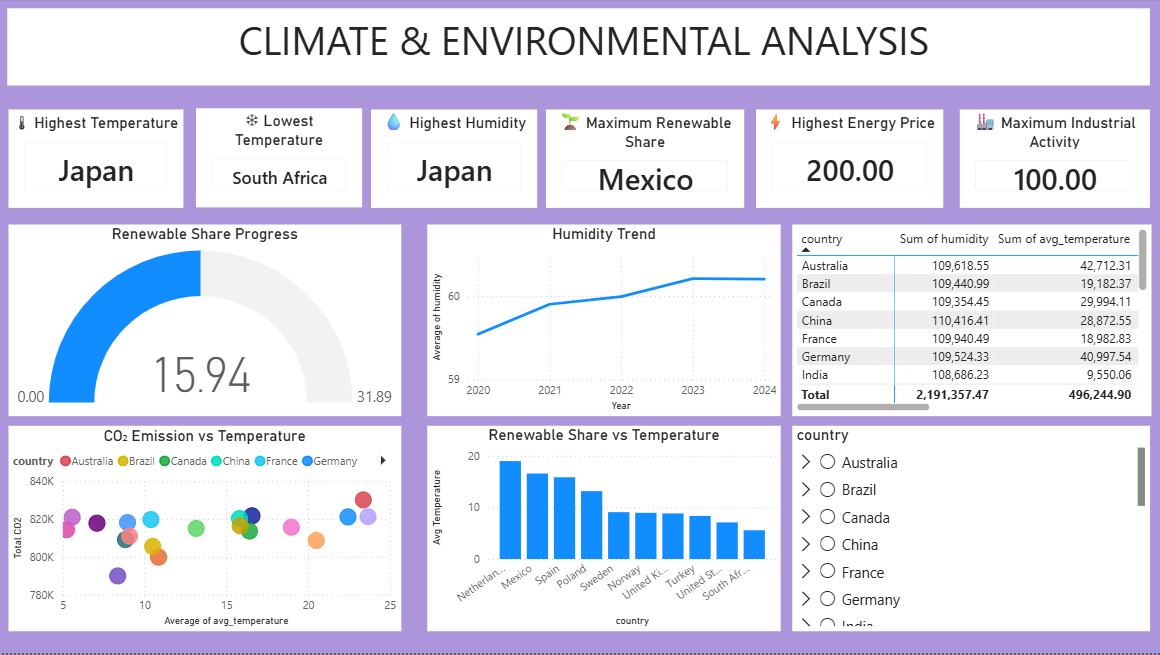

This screenshot's page, from the dashboard's own definition file:
{"tool":"powerbi","page":{"name":" CLIMATE & ENVIRONMENTAL ANALYSIS","canvas":[1280,720],"ordinal":2},"visuals":[{"type":"textbox","box":[12.9,12.9,1254.5,84.5],"z":0},{"type":"cardVisual","title":"🌡 Highest Temperature","fields":{"Data":["global_climate_energy_2020_2024.Highest Temp Country"]},"box":[13.7,123.3,191.8,108.1],"z":1000},{"type":"cardVisual","title":"❄ Lowest Temperature","fields":{"Data":["global_climate_energy_2020_2024.Lowest Humidity Country"]},"box":[211.6,123.3,185.7,108.1],"z":2000},{"type":"cardVisual","title":"💧 Highest Humidity","fields":{"Data":["global_climate_energy_2020_2024.Highest Temp Country"]},"box":[411,123.3,182.7,108.1],"z":3000},{"type":"cardVisual","title":"🌱 Maximum Renewable Share","fields":{"Data":["global_climate_energy_2020_2024.Highest Renewable Country"]},"box":[604.4,123.3,217.7,108.1],"z":4000},{"type":"cardVisual","title":"⚡ Highest Energy Price","fields":{"Data":["global_climate_energy_2020_2024.Highest Energy Price"]},"box":[834.3,123.3,205.5,108.1],"z":5000},{"type":"cardVisual","title":"🏭 Maximum Industrial Activity","fields":{"Data":["global_climate_energy_2020_2024.Max Industrial Activity"]},"box":[1058,123.3,208.6,108.1],"z":6000},{"type":"gauge","title":"Renewable Share Progress","fields":{"Y":["Avg(global_climate_energy_2020_2024.renewable_share)"]},"box":[13.7,249.7,430.8,210.1],"z":7000},{"type":"lineChart","title":"Humidity Trend","fields":{"Category":["global_climate_energy_2020_2024.date.Variation.Date Hierarchy.Year","global_climate_energy_2020_2024.date.Variation.Date Hierarchy.Month","global_climate_energy_2020_2024.date.Variation.Date Hierarchy.Day"],"Y":["Avg(global_climate_energy_2020_2024.humidity)"]},"box":[473.5,249.7,388.2,210.1],"z":8000},{"type":"scatterChart","title":"CO₂ Emission vs Temperature","fields":{"X":["Avg(global_climate_energy_2020_2024.avg_temperature)"],"Series":["global_climate_energy_2020_2024.country"],"Y":["global_climate_energy_2020_2024.Total CO2"],"Size":["global_climate_energy_2020_2024.Total Energy"]},"box":[13.7,470.4,430.8,225.3],"z":9000},{"type":"lineStackedColumnComboChart","title":"Renewable Share vs Temperature","fields":{"Y":["global_climate_energy_2020_2024.Avg Temperature"],"Category":["global_climate_energy_2020_2024.country"]},"box":[473.5,470.4,388.2,225.3],"z":10000},{"type":"listSlicer","fields":{"Values":["global_climate_energy_2020_2024.country","global_climate_energy_2020_2024.date.Variation.Date Hierarchy.Year"]},"box":[873.8,470.4,392.8,225.3],"z":11000},{"type":"pivotTable","fields":{"Rows":["global_climate_energy_2020_2024.country"],"Values":["Sum(global_climate_energy_2020_2024.humidity)","Sum(global_climate_energy_2020_2024.avg_temperature)","Sum(global_climate_energy_2020_2024.energy_price)","Sum(global_climate_energy_2020_2024.renewable_share)","Sum(global_climate_energy_2020_2024.co2_emission)"]},"box":[873.8,249.7,394.3,210.1],"z":12000}]}

Visuals, with their boxes in screenshot pixels (x1, y1, x2, y2), scaled from the page's 1280x720 canvas onto the 1160x655 screenshot:
textbox: 12/12/1149/89
"🌡 Highest Temperature" cardVisual: 12/112/186/211
"❄ Lowest Temperature" cardVisual: 192/112/360/211
"💧 Highest Humidity" cardVisual: 372/112/538/211
"🌱 Maximum Renewable Share" cardVisual: 548/112/745/211
"⚡ Highest Energy Price" cardVisual: 756/112/942/211
"🏭 Maximum Industrial Activity" cardVisual: 959/112/1148/211
"Renewable Share Progress" gauge: 12/227/403/418
"Humidity Trend" lineChart: 429/227/781/418
"CO₂ Emission vs Temperature" scatterChart: 12/428/403/633
"Renewable Share vs Temperature" lineStackedColumnComboChart: 429/428/781/633
listSlicer - global_climate_energy_2020_2024.country x global_climate_energy_2020_2024.date.Variation.Date Hierarchy.Year: 792/428/1148/633
pivotTable - global_climate_energy_2020_2024.country x Sum(global_climate_energy_2020_2024.humidity): 792/227/1149/418
